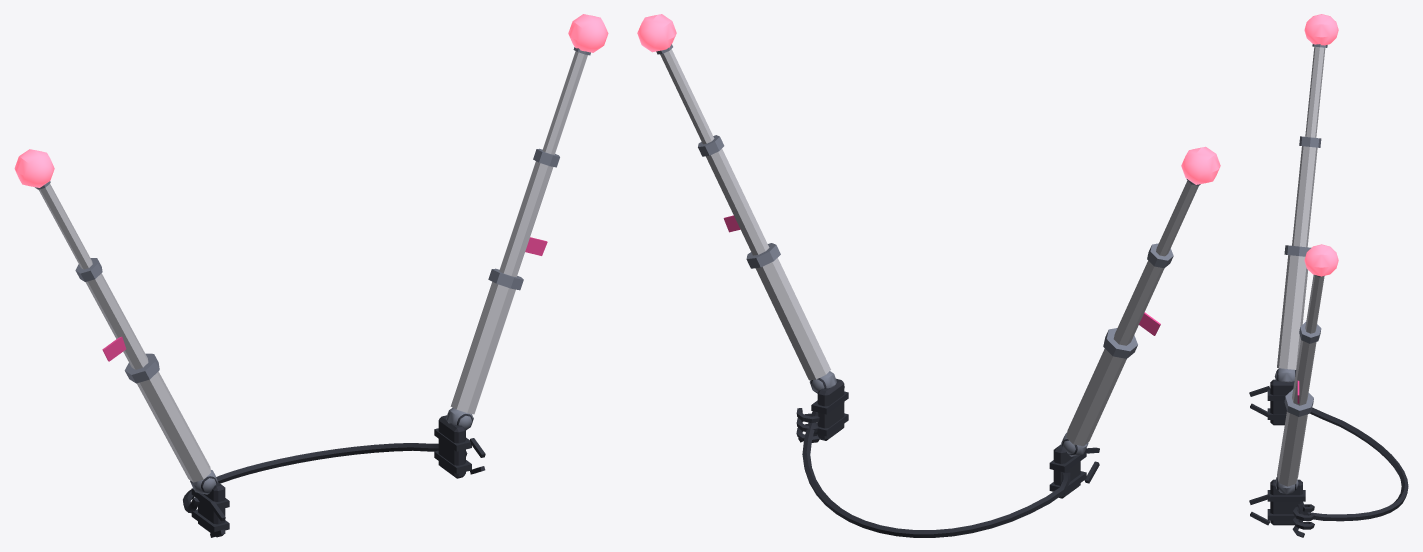
The model's file is rabbit_ears.glb.
3 views of the same model, side by side, from view 1: azimuth 30°, elevation 25°; view 2: azimuth 150°, elevation 25°; view 3: azimuth 270°, elevation 25° (orthographic). The views are drawn at different scales.
Visible parts, largest first — view 1: Headgear; view 2: Headgear; view 3: Headgear.
Boxes of the visible parts, x1,y1,x2,y2 form: Headgear: (14,14,608,537); Headgear: (637,14,1220,537); Headgear: (1249,14,1408,537).
Bounding box in the file's own units: 0.6072 × 0.4168 × 0.1667.
